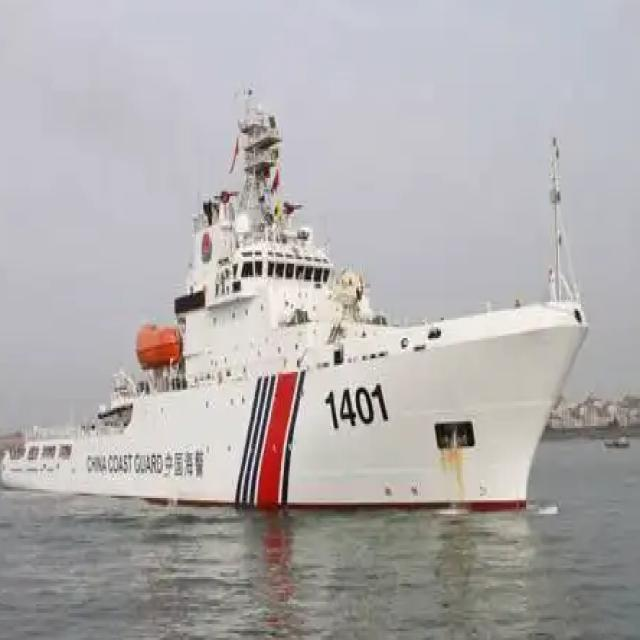fishing boat: (4, 98, 582, 514)
